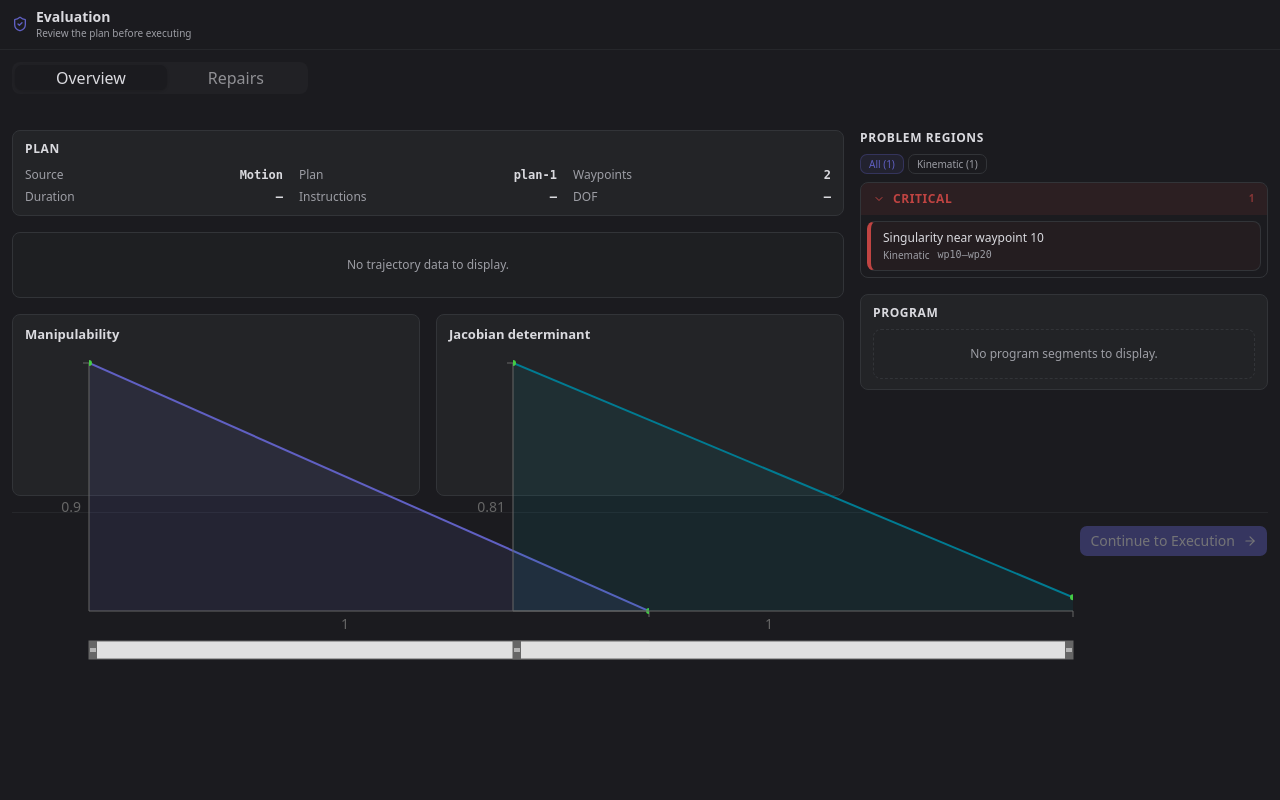
Test: EvaluationWorkspace — recommendations with uniform Preview/Apply/Undo › renders one RecommendationRow per recommendation on the Repairs tab
Click the tab "Repairs".
click(236, 78)  # box [167,65,305,90]
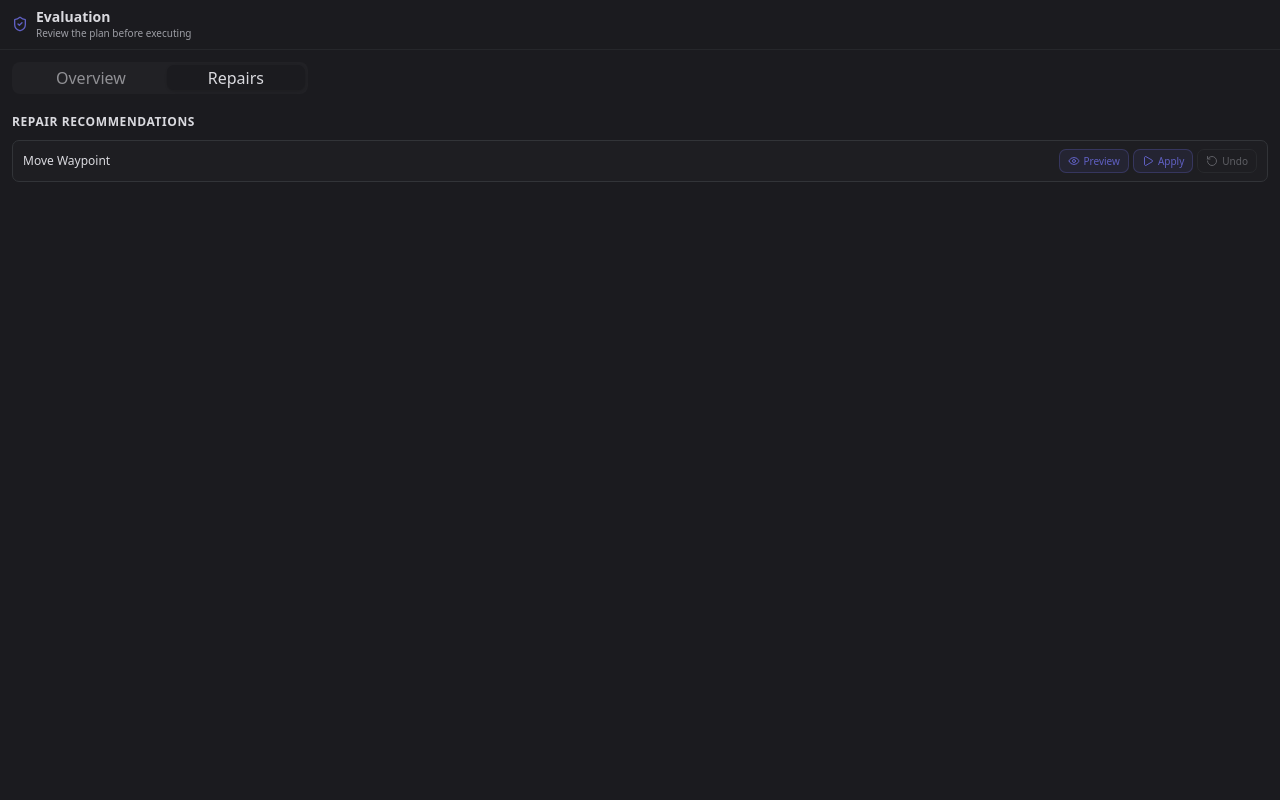
Check: the list item with test id "recommendation-row" is shown, box [12,140,1268,182]
Check: the button "Preview" is shown, box [1058,148,1129,173]
Check: the button "Apply" is shown, box [1133,148,1193,173]
